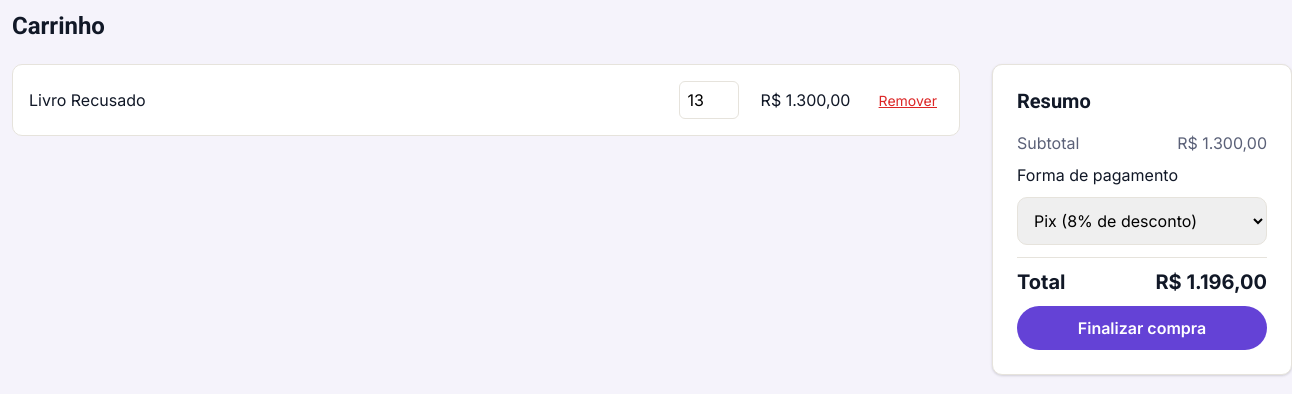
Test: Cart › mostra o item recusado com o motivo quando a confirmação de pagamento recusa
Click the button "Finalizar compra".
click(1142, 328)  # box [1017,306,1267,350]
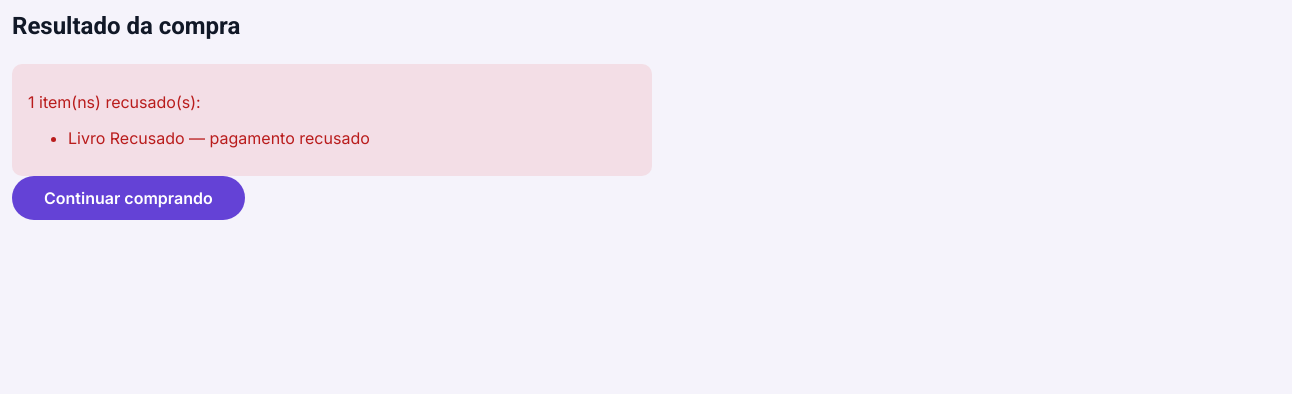
expect the text "1 item(ns) recusado(s):" is shown: met, box [28,92,201,112]
expect the list item "Livro Recusado — pagamento recusado" is shown: met, box [68,128,370,148]
